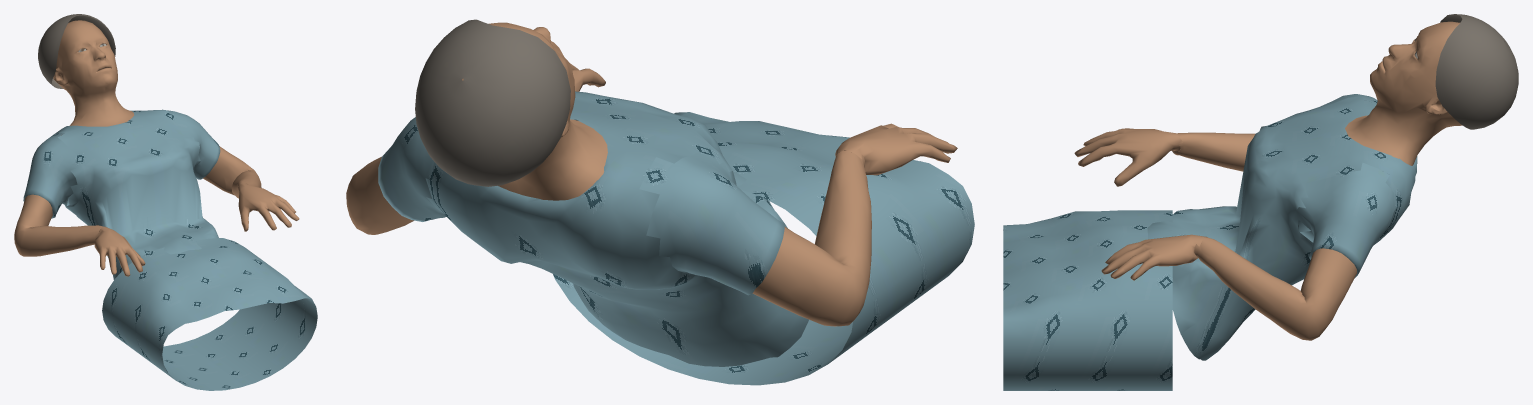
File: icu-patient-01-middle.glb
3 renders of one model, left to right at view 1: azimuth 30°, elevation 25°; view 2: azimuth 150°, elevation 25°; view 3: azimuth 270°, elevation 25°, orthographic. The views are drawn at different scales.
Parts seen in each view (by area): view 1: Reclining ICU patient; view 2: Reclining ICU patient; view 3: Reclining ICU patient.
Boxes of the visible parts, x1,y1,x2,y2 form: Reclining ICU patient: (14,14,317,390); Reclining ICU patient: (346,19,974,385); Reclining ICU patient: (1003,14,1518,390).
Bounding box in the file's own units: 0.7486 × 0.7247 × 0.9546.
Materials: 2 (1 with a texture image).
